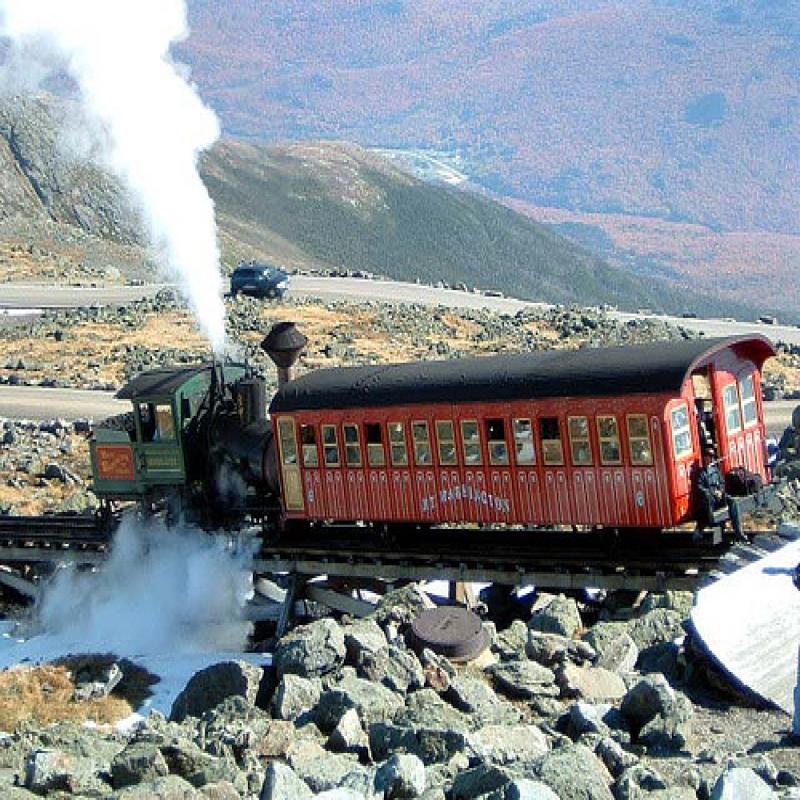train: (89, 321, 788, 551)
